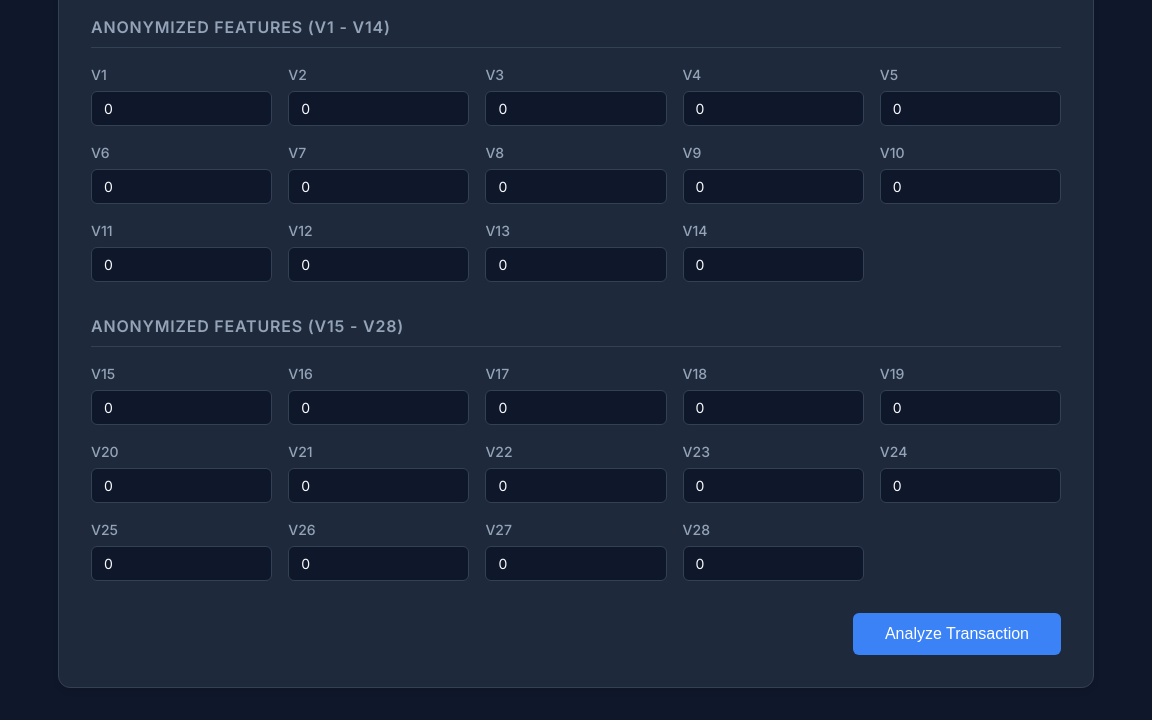
Test case: Fraud Detection Dashboard › handles API error correctly without stack traces
The image size is (1152, 720).
(page scrolled)
Click the button "Analyze Transaction" at (957, 634), box [853,613,1061,655]
(page scrolled)
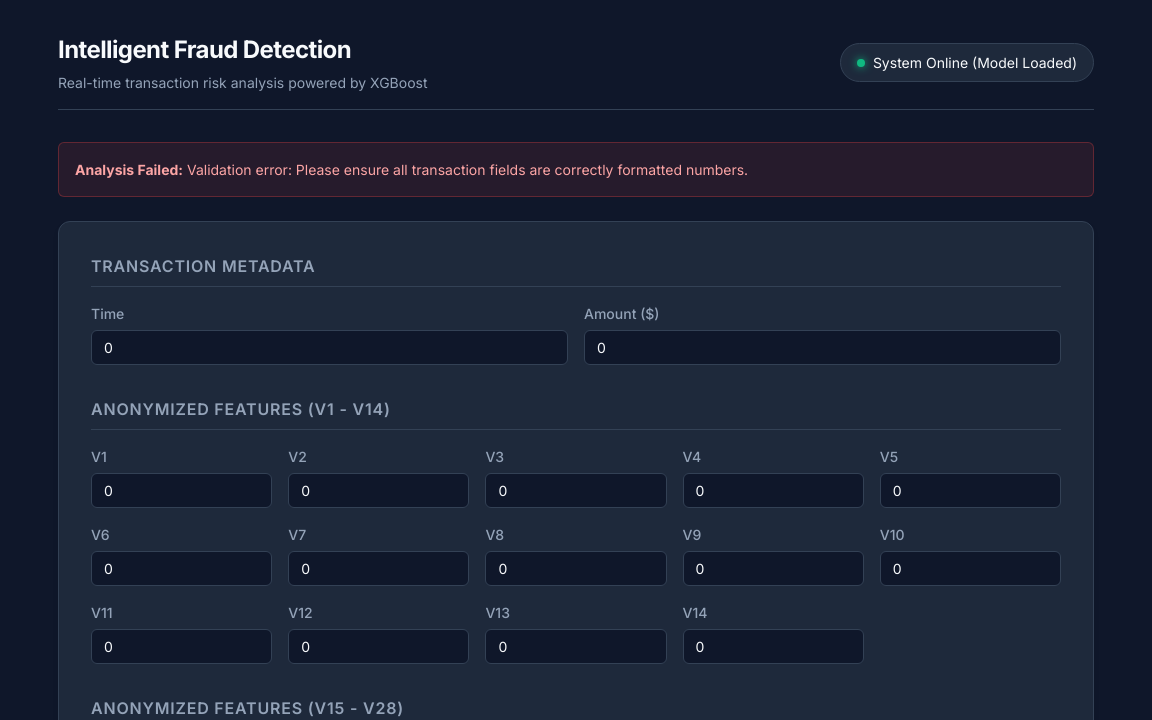
Expected: the text "Validation error: Please ensure all transaction fields are correctly formatted numbers" is shown, [187,161,748,178]
